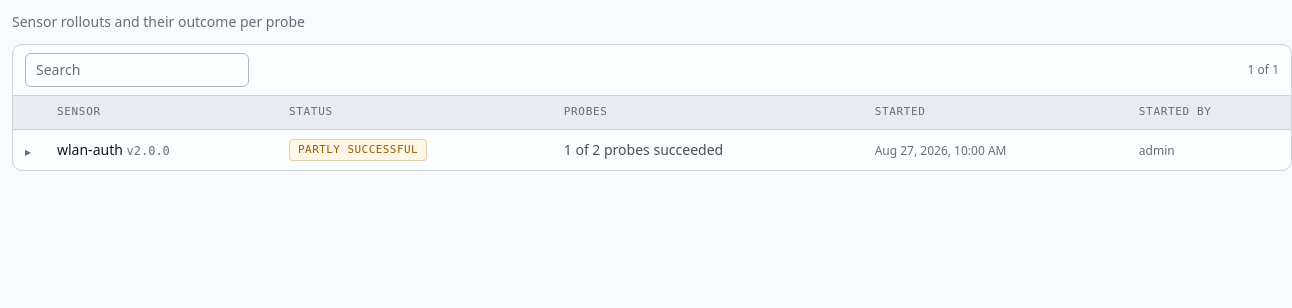
Scenario: the targets of a rollout › names the probe that failed, and why
Expected: the text "1 of 2 probes succeeded" is shown, 564,140 -> 723,158
Expected: the text "mpp-hamburg-01" is not shown
What coordinates should you click on to do the following:
click the button named "Show details"
I would click on:
 (28, 152)
Its box is 25,144 -> 31,160.
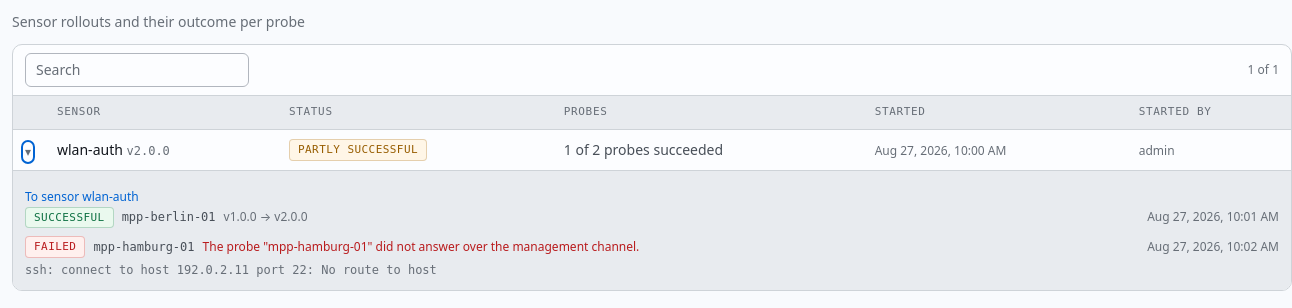
Result: the text "mpp-berlin-01" is shown at 122,209 -> 216,225
Result: the text "mpp-hamburg-01" is shown at 93,239 -> 195,255
Result: the text "The probe \"mpp-hamburg-01\" did not answer over the management channel." is shown at 202,239 -> 639,255
